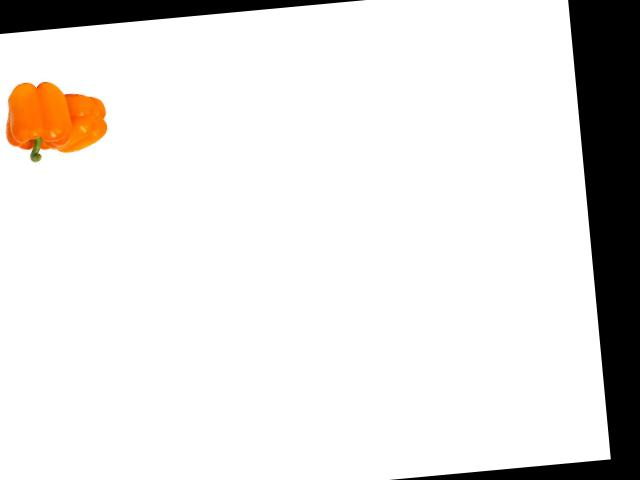bell_pepper: (45, 82, 114, 156)
